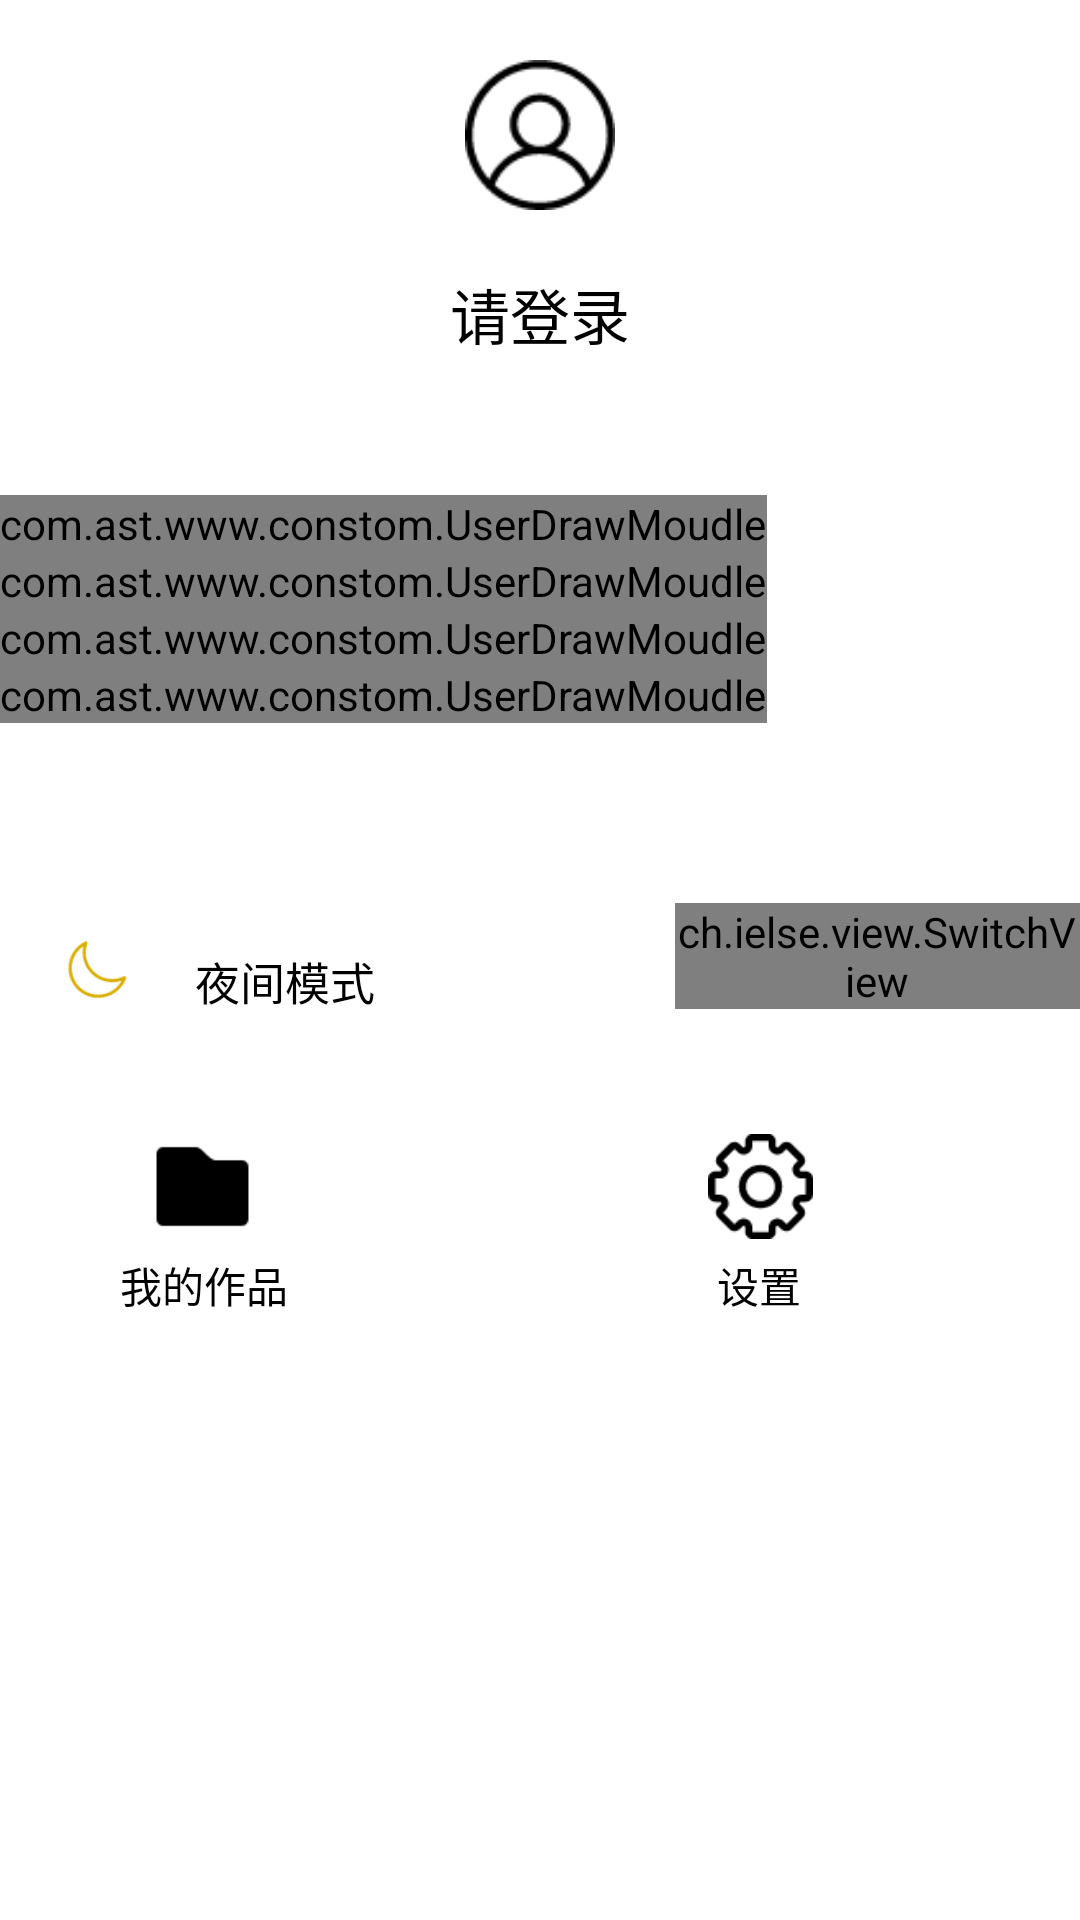

Locate icon controls on the screen. Image size 1080w x 1920h, boxes as (x1, y1, x2, y2).
weidneglu: (465, 60, 615, 210)
wenjianjia: (156, 1146, 249, 1227)
yueliang: (68, 941, 127, 999)
